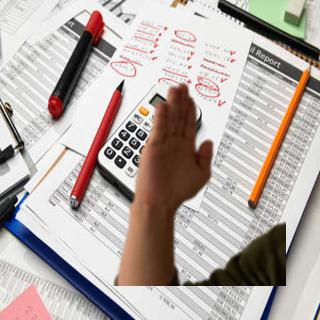RIGHT: (130, 78, 218, 221)
